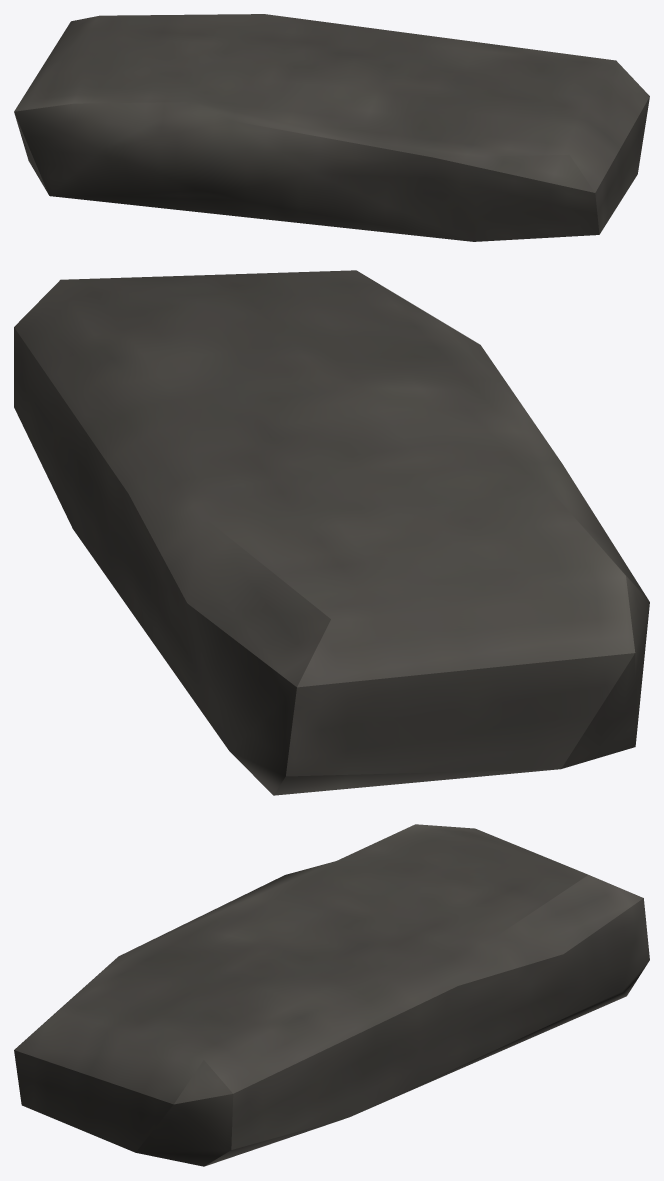
The model's file is Stair_el6.fbx.
3 views of the same model, one above another, from view 1: azimuth 30°, elevation 25°; view 2: azimuth 150°, elevation 25°; view 3: azimuth 270°, elevation 25° (orthographic). The views are drawn at different scales.
Parts seen in each view (by area): view 1: Stair_el6; view 2: Stair_el6; view 3: Stair_el6.
Boxes of the visible parts, <box> form: Stair_el6: <box>14,14,649,241</box>; Stair_el6: <box>14,270,649,795</box>; Stair_el6: <box>14,824,649,1166</box>.
Size of the model in its own units: 201 by 40.41 by 201.
1 material, 1 textured.
